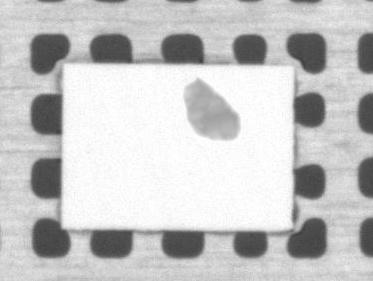DIE_INK: (180, 75, 244, 145)
